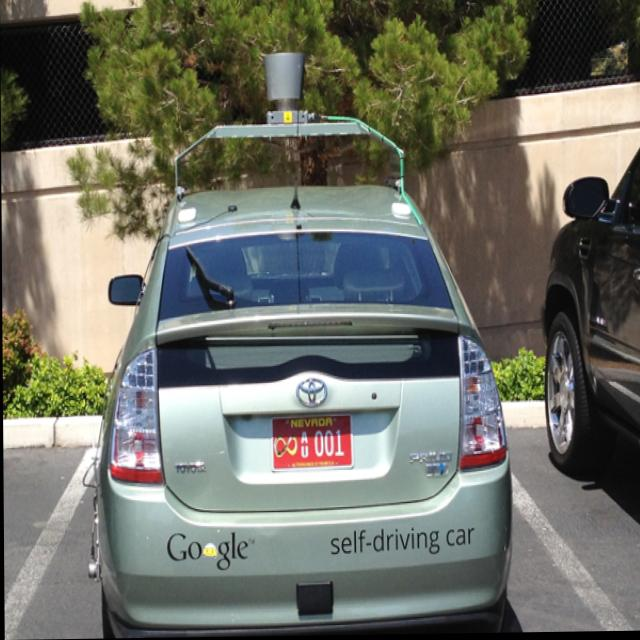licence: (269, 414, 349, 481)
